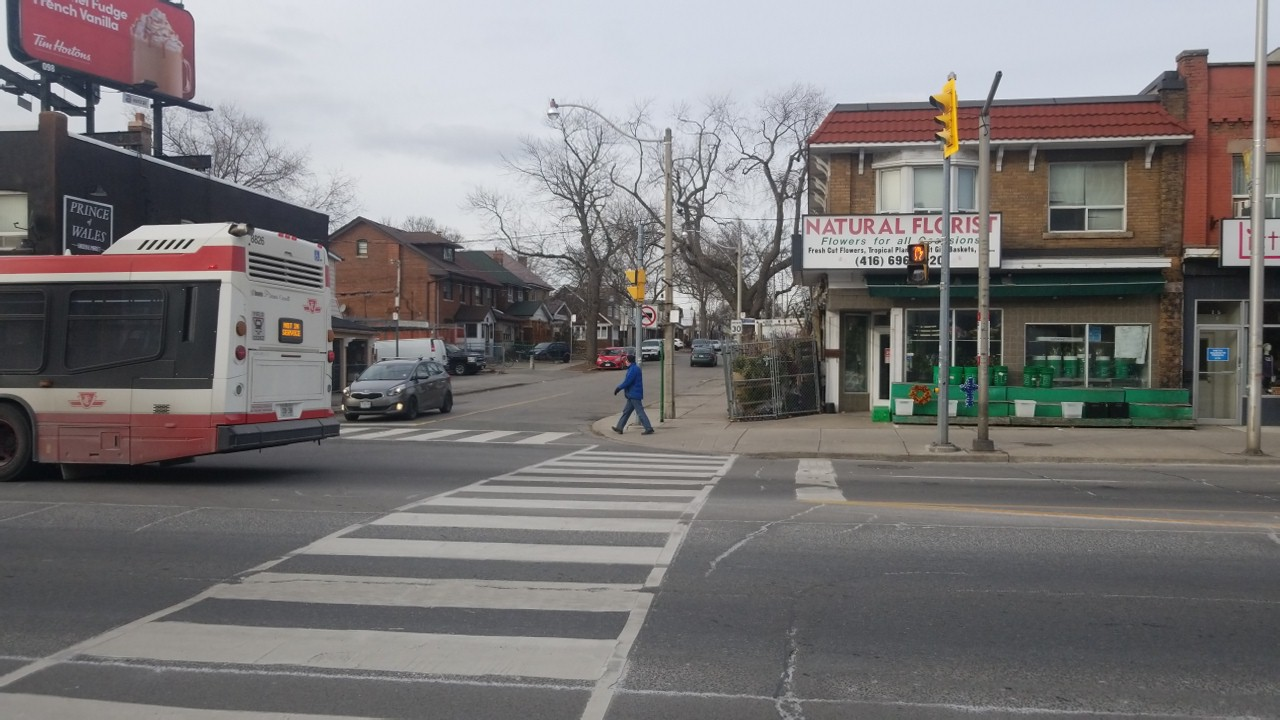light: (906, 241, 928, 285)
